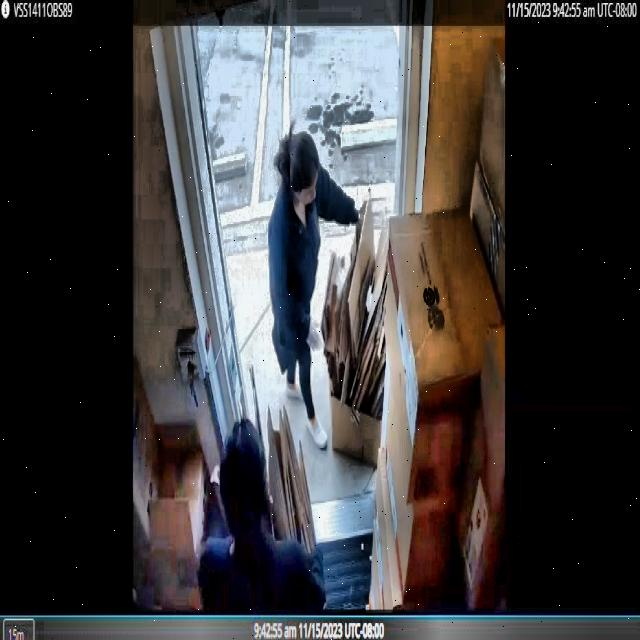gloved: (304, 310, 325, 360)
